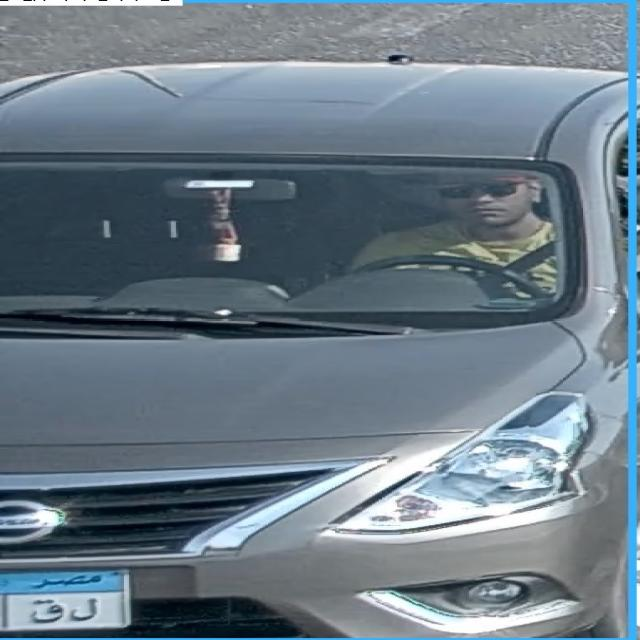windshield: (2, 154, 576, 325)
